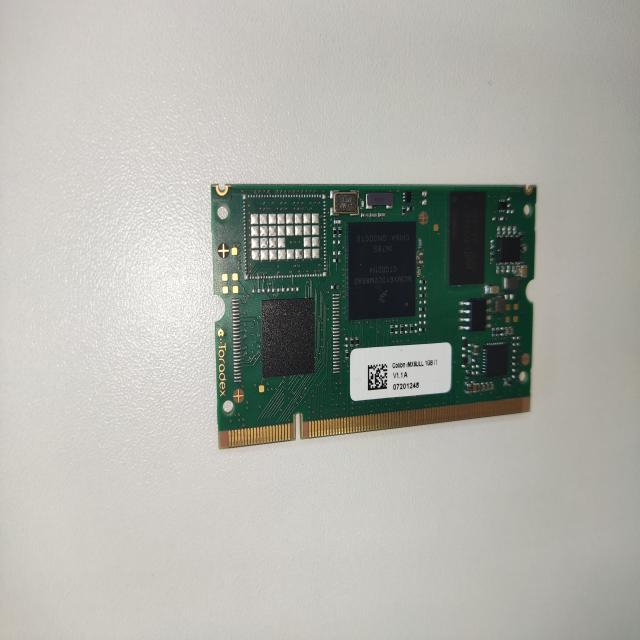som: (194, 169, 547, 459)
